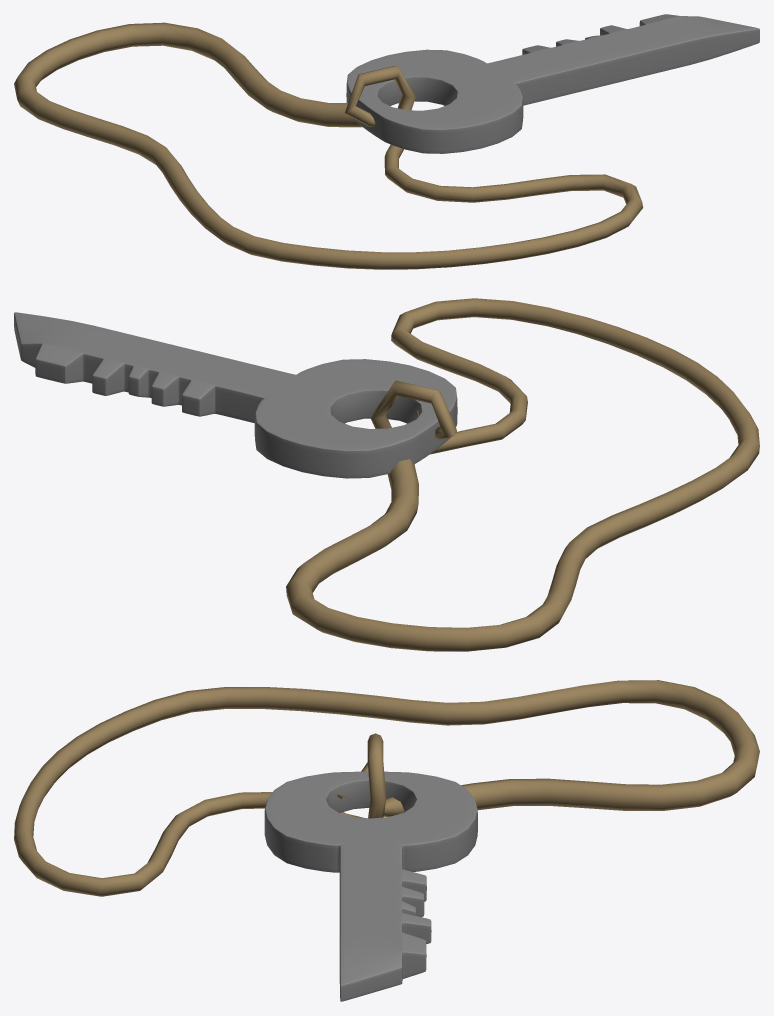
Rendered from inventario.fbx.
3 views of the same model, one above another, from view 1: azimuth 30°, elevation 25°; view 2: azimuth 150°, elevation 25°; view 3: azimuth 270°, elevation 25° (orthographic). The views are drawn at different scales.
Parts seen in each view (by area): view 1: Llabe_diario2; view 2: Llabe_diario2; view 3: Llabe_diario2.
Part boxes in pixels (x1,y1,x2,y2): Llabe_diario2: [14, 14, 759, 269]; Llabe_diario2: [14, 298, 759, 651]; Llabe_diario2: [14, 680, 759, 1001].
Size of the model in its own units: 10.64 by 1.27 by 10.14.
